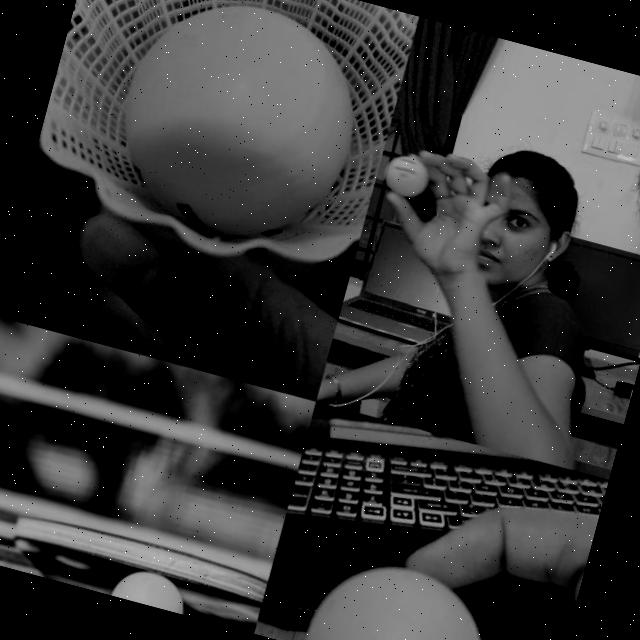ping-pong-ball: (100, 0, 381, 256), (301, 544, 500, 640), (111, 560, 192, 614), (378, 150, 432, 199)
